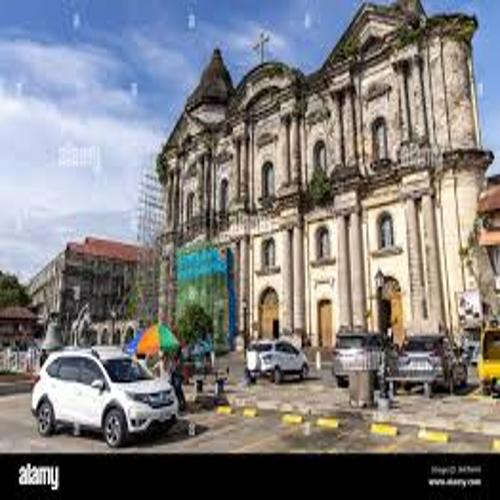Taal Basilica Church: (146, 3, 500, 372)
